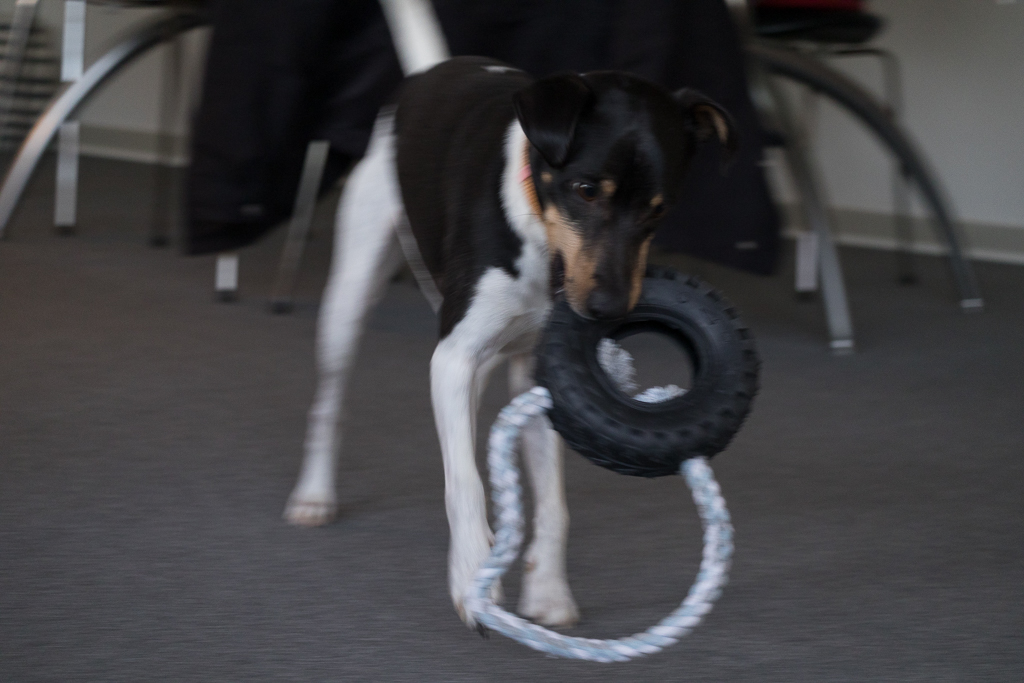Dog: (277, 0, 756, 656)
